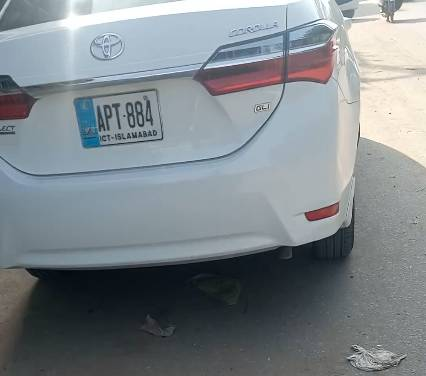number_plate: (71, 95, 185, 147)
